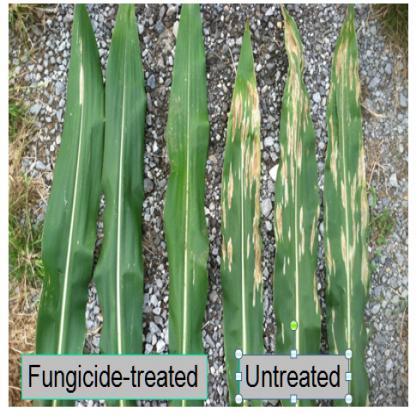corn leaf blight: (322, 7, 386, 351), (266, 3, 325, 353), (218, 17, 269, 360)
